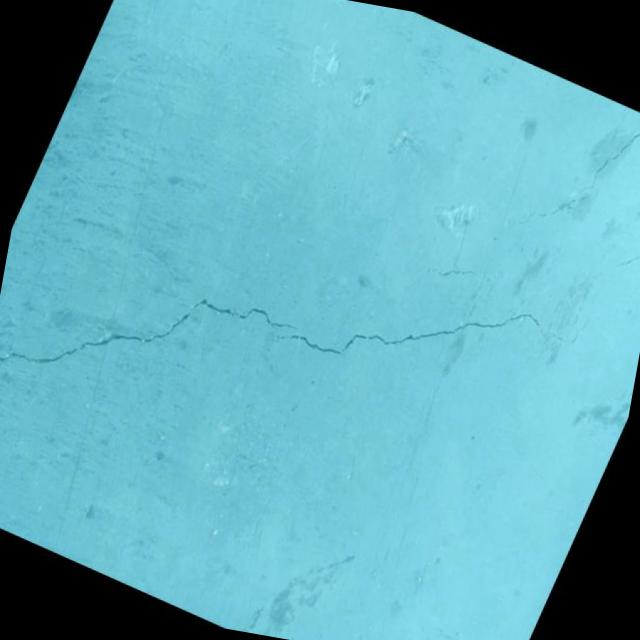crack: (0, 201, 312, 504), (255, 196, 602, 458), (490, 158, 594, 271), (574, 98, 640, 220), (607, 204, 640, 290), (424, 253, 478, 290)
